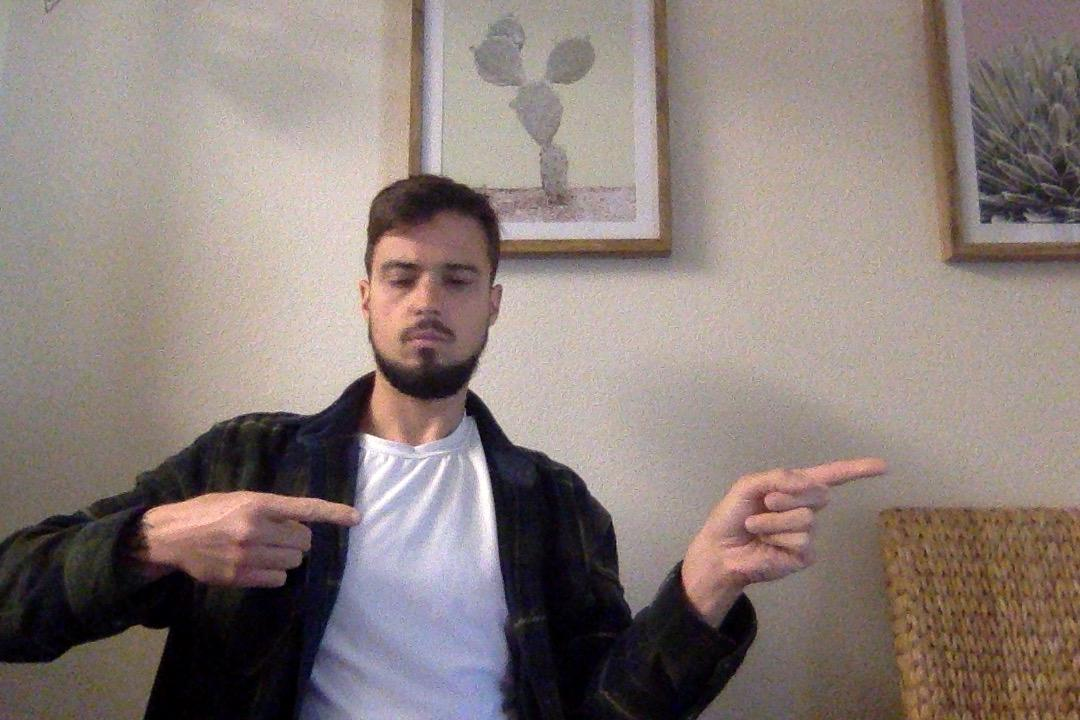Point-Left: (682, 442, 892, 613), (143, 485, 362, 596)
